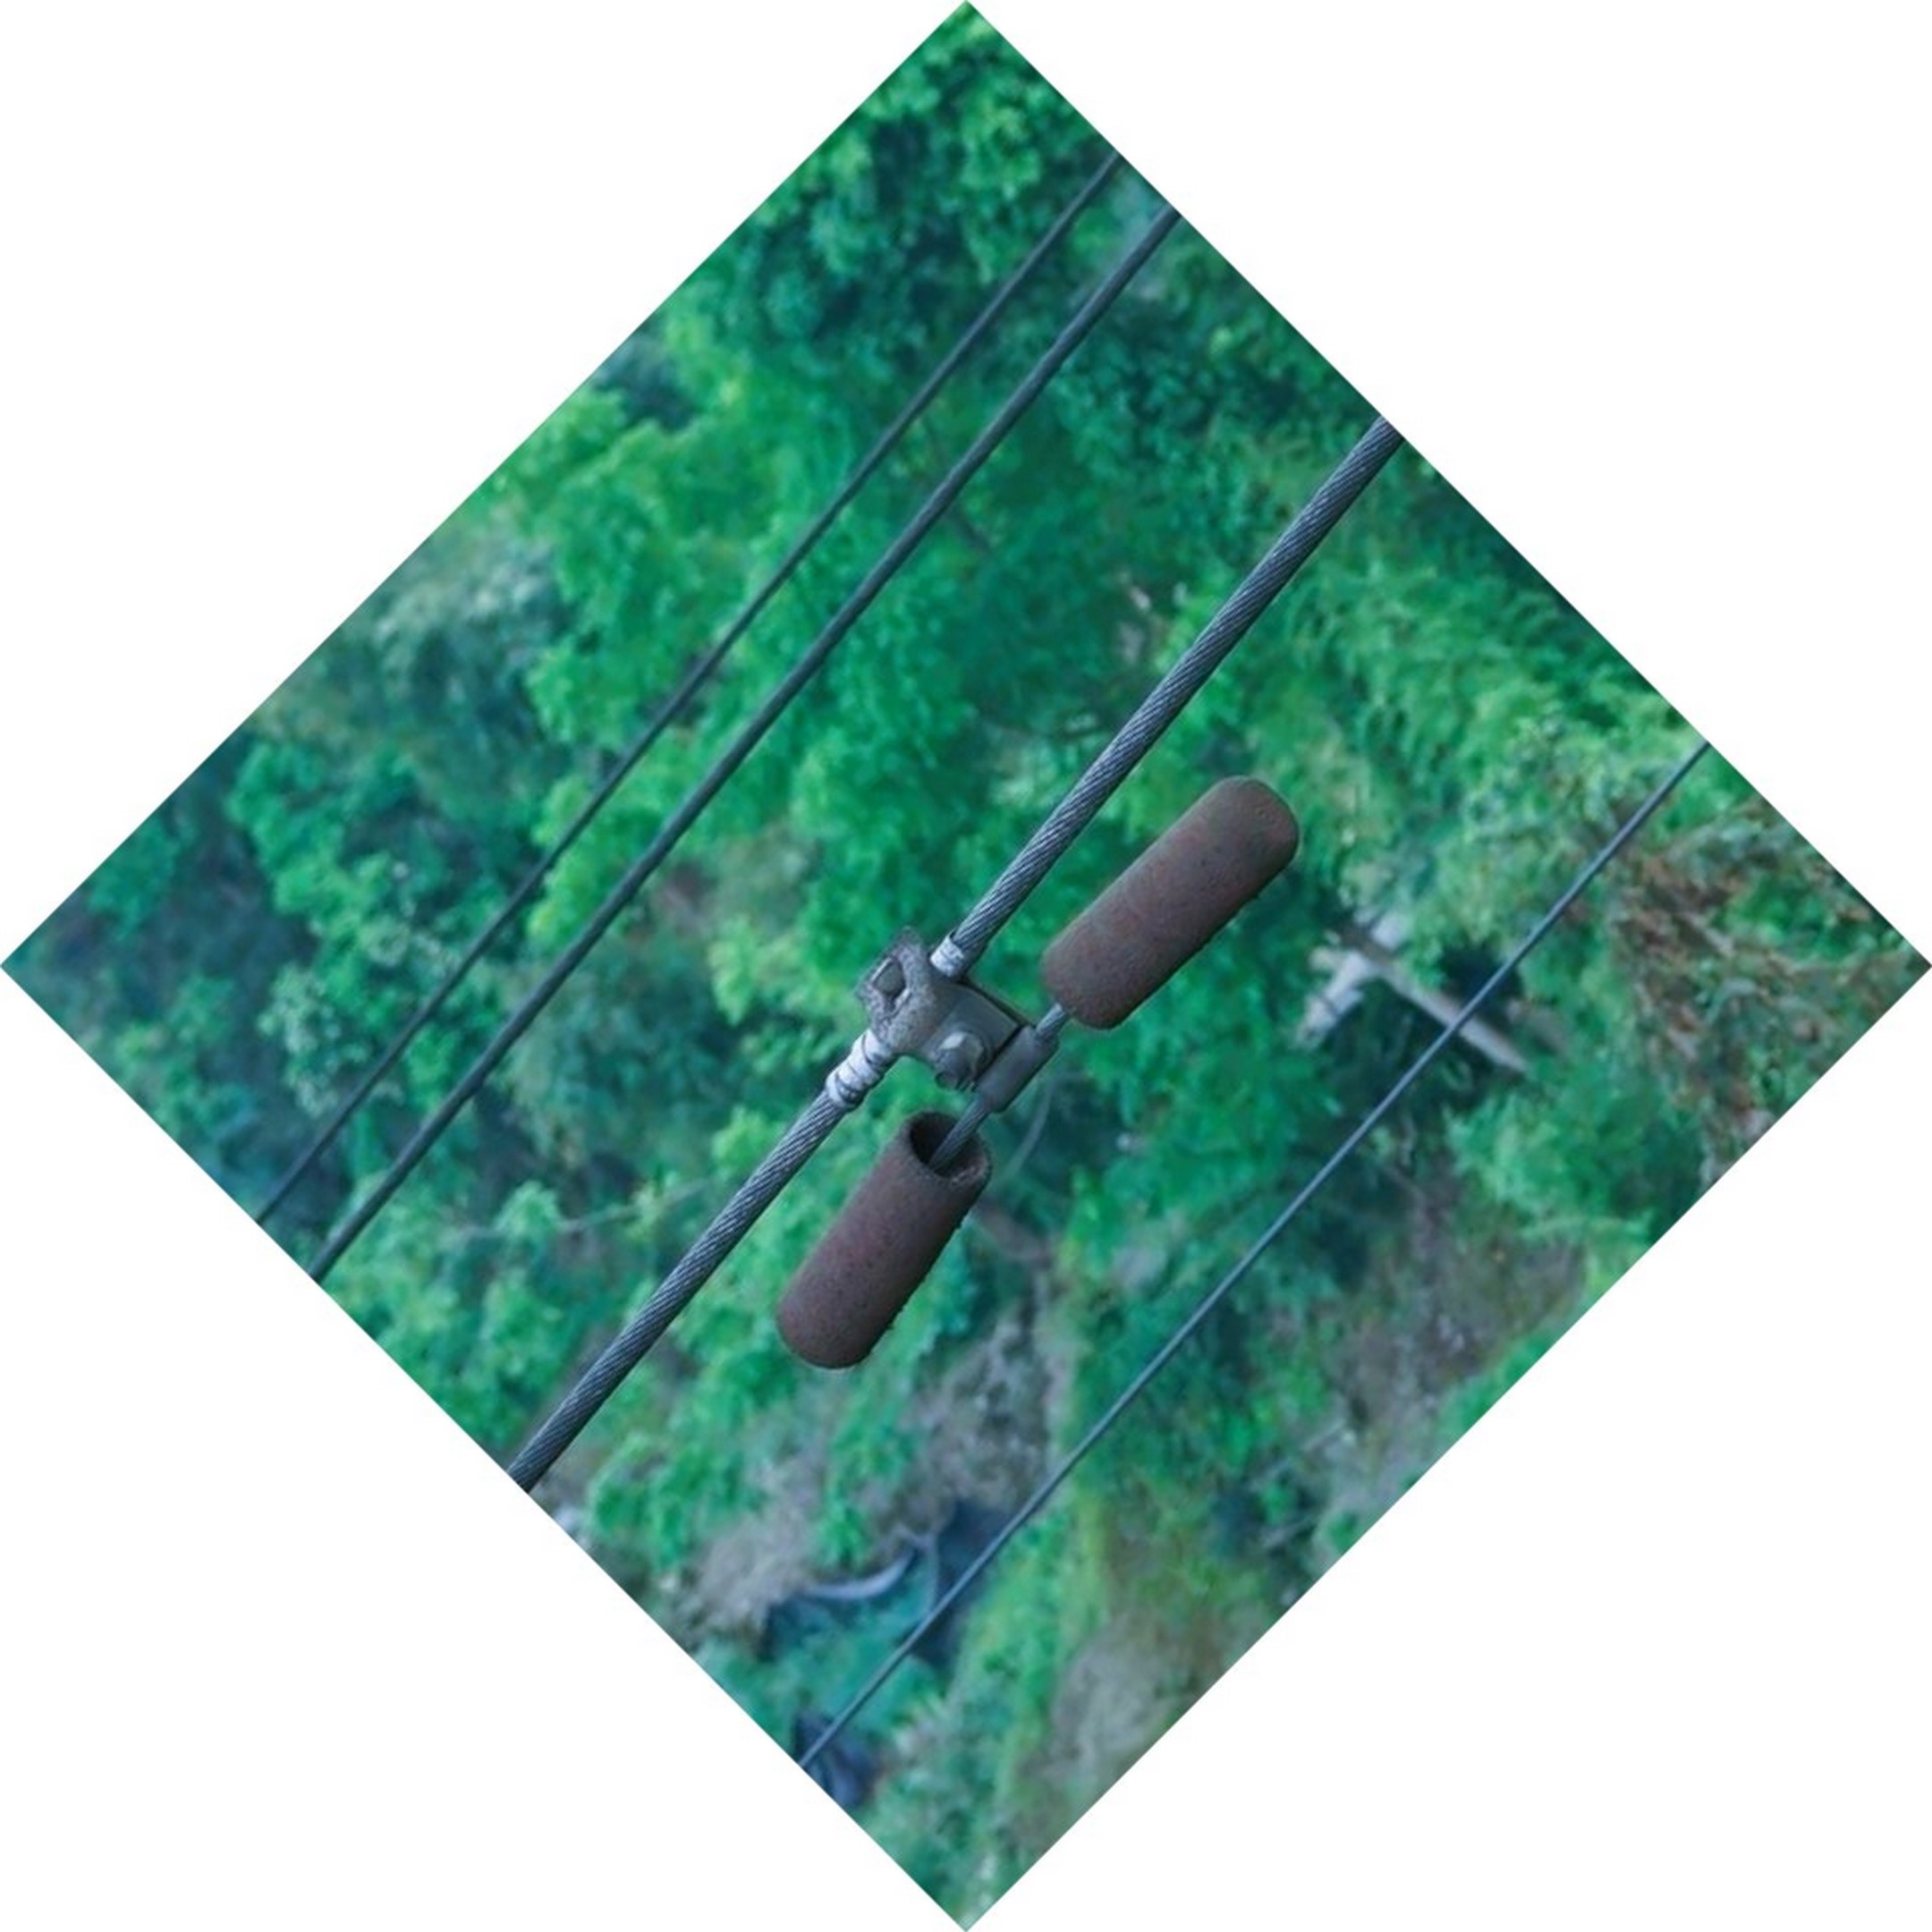Shockproof hammer: (734, 738, 1318, 1375)
